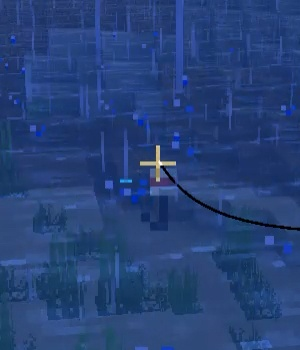down: (140, 169, 181, 233)
